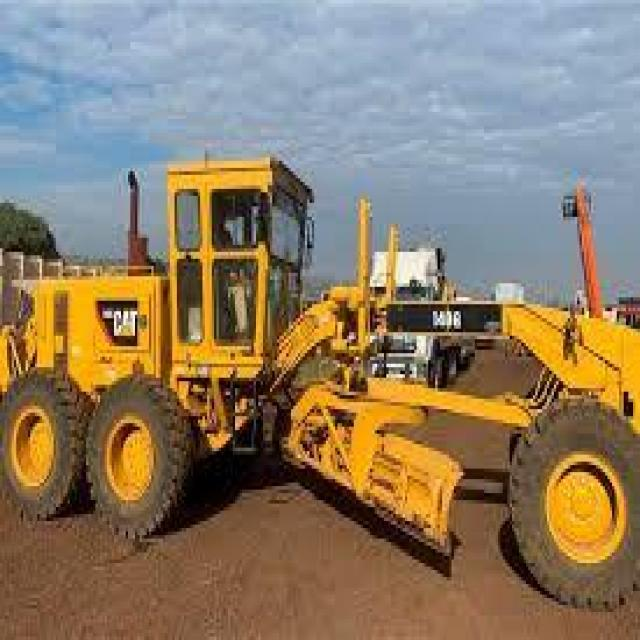Grader: (12, 116, 638, 594)
